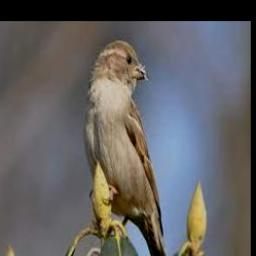Sparrow: (83, 39, 168, 255)
